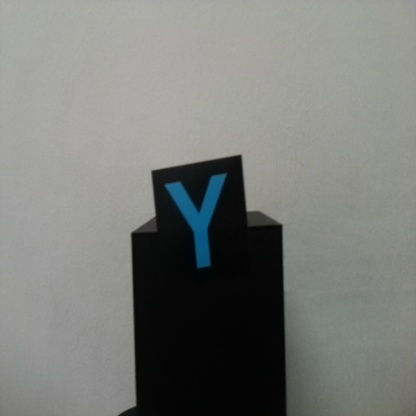id_14: (152, 167, 249, 288)
